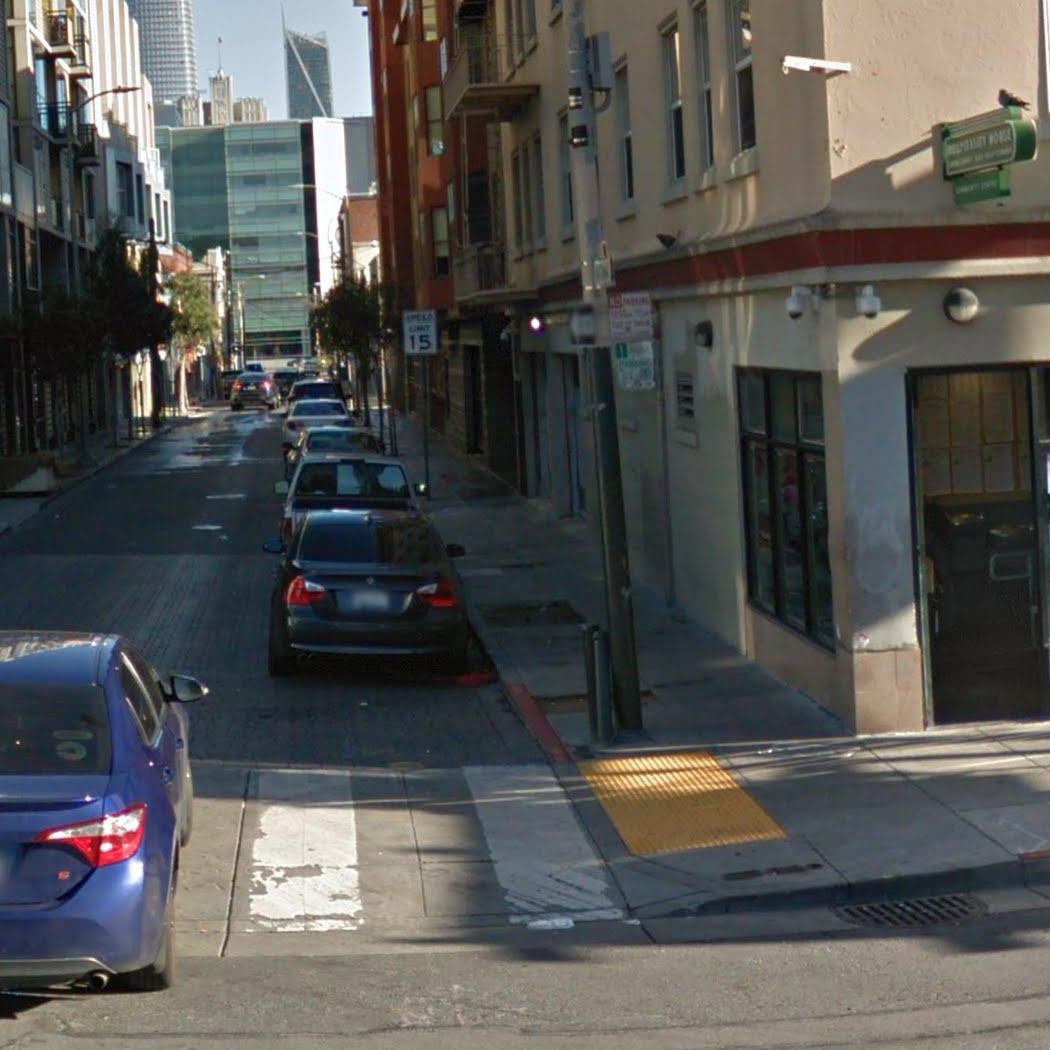1 Hour Parking: (613, 340, 657, 392)
No Parking: (606, 289, 655, 342)
